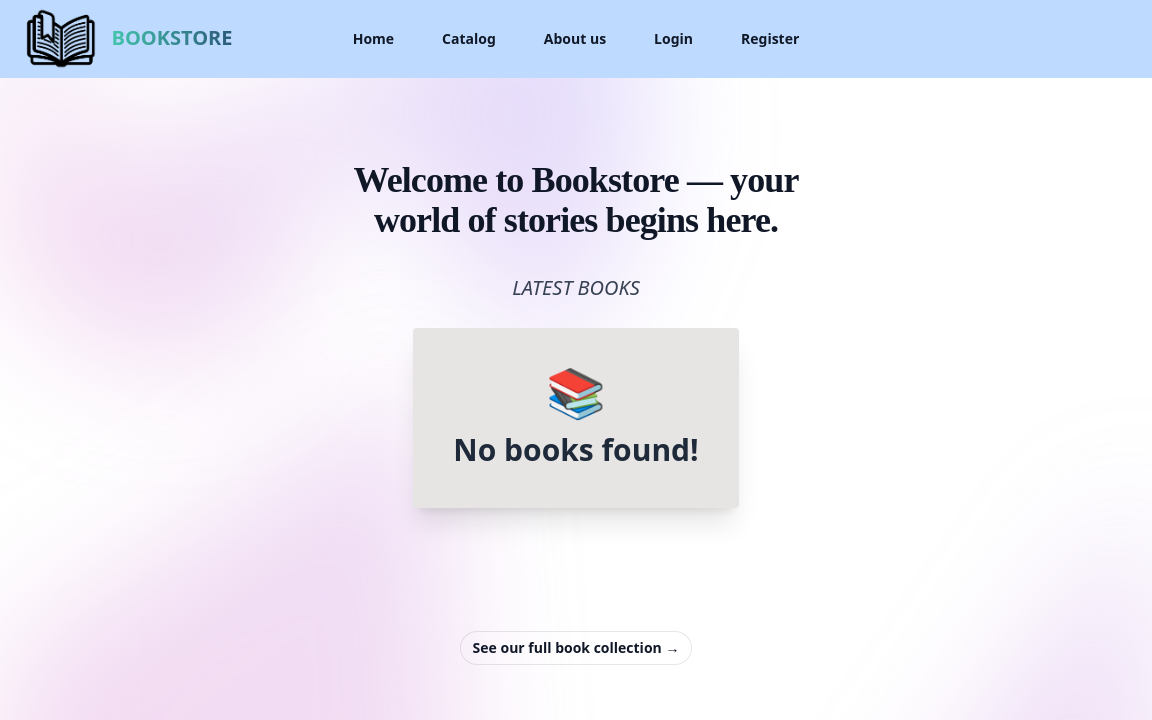
App › Load navigation pages correctly › Login page
The image size is (1152, 720).
Click the link "Login". click: (674, 39)
box: [654,27,693,51]
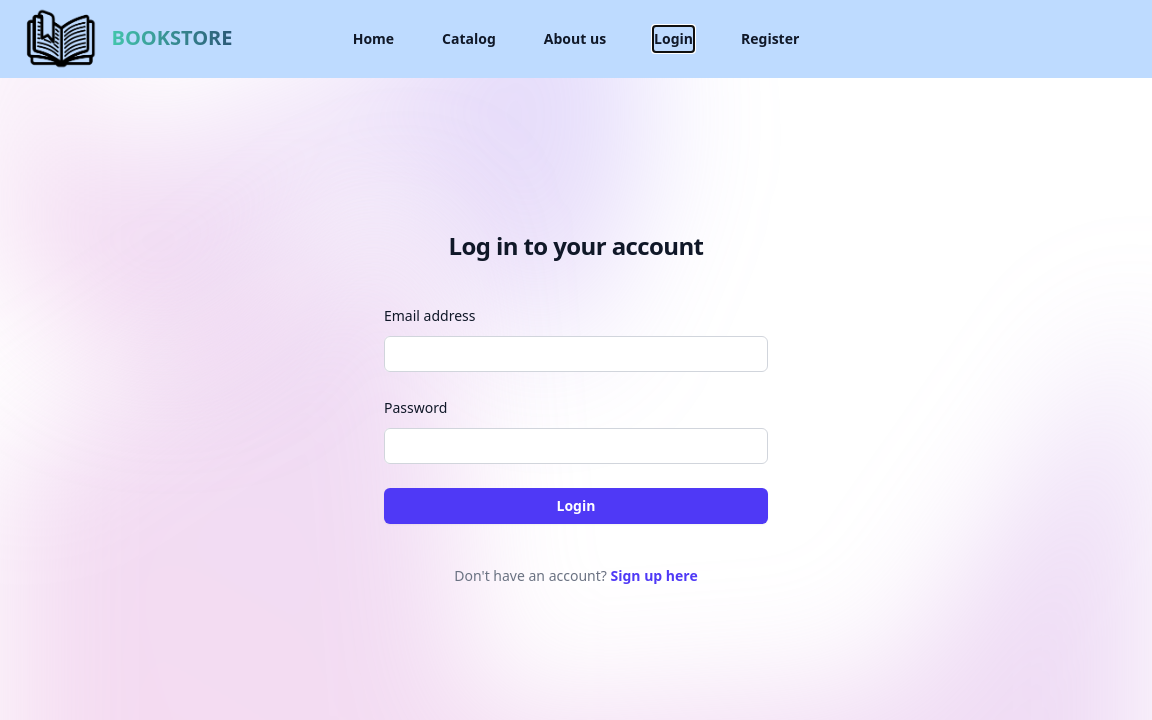
Result: the field labelled "Email address" is shown at [384,336,768,372]
Result: the heading "Log in to your account" is shown at [448,229,703,262]
Result: the password field labelled "Password" is shown at [384,428,768,464]
